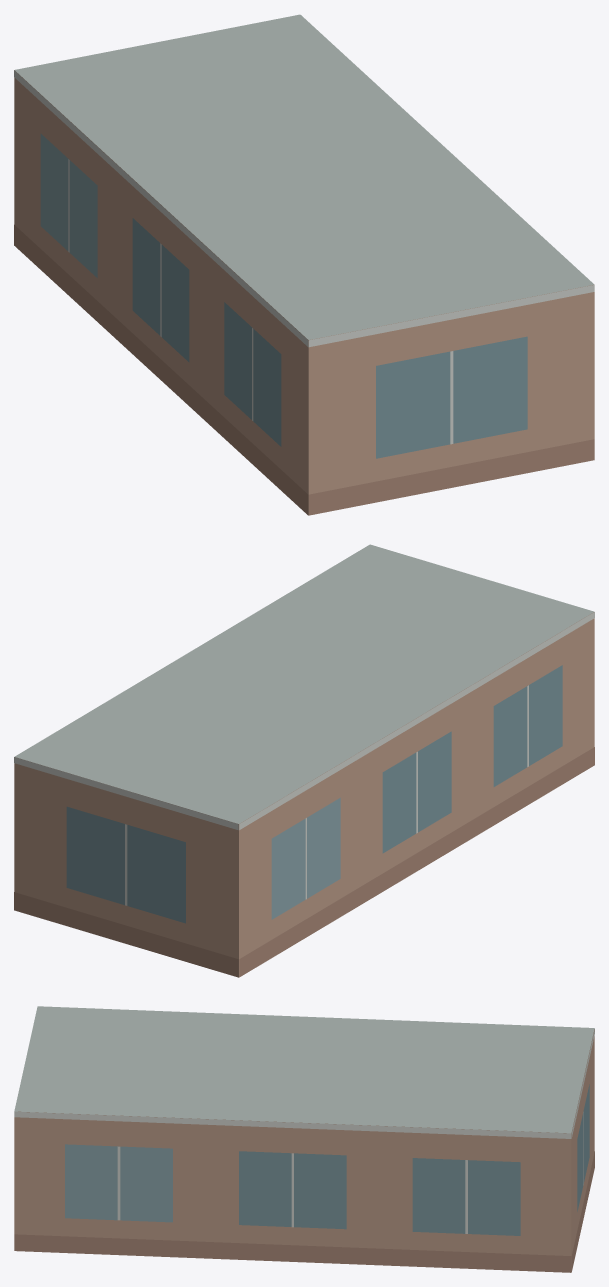
The model's file is survey-upis-32494268.glb.
The picture shows the model from 3 angles, top to bottom: view 1: azimuth 30°, elevation 25°; view 2: azimuth 150°, elevation 25°; view 3: azimuth 270°, elevation 25°; orthographic projection. The views are drawn at different scales.
Parts seen in each view (by area): view 1: survey-upis-32494268.tmp; view 2: survey-upis-32494268.tmp; view 3: survey-upis-32494268.tmp.
Boxes of the visible parts, bbox=[...] form: survey-upis-32494268.tmp: bbox=[14, 14, 594, 515]; survey-upis-32494268.tmp: bbox=[14, 544, 594, 977]; survey-upis-32494268.tmp: bbox=[14, 1006, 594, 1272].
Bounding box in the file's own units: 5.88 × 3 × 11.33.
